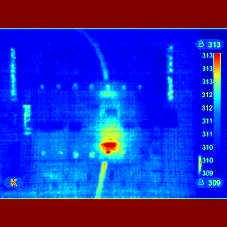High: (97, 118, 131, 159)
